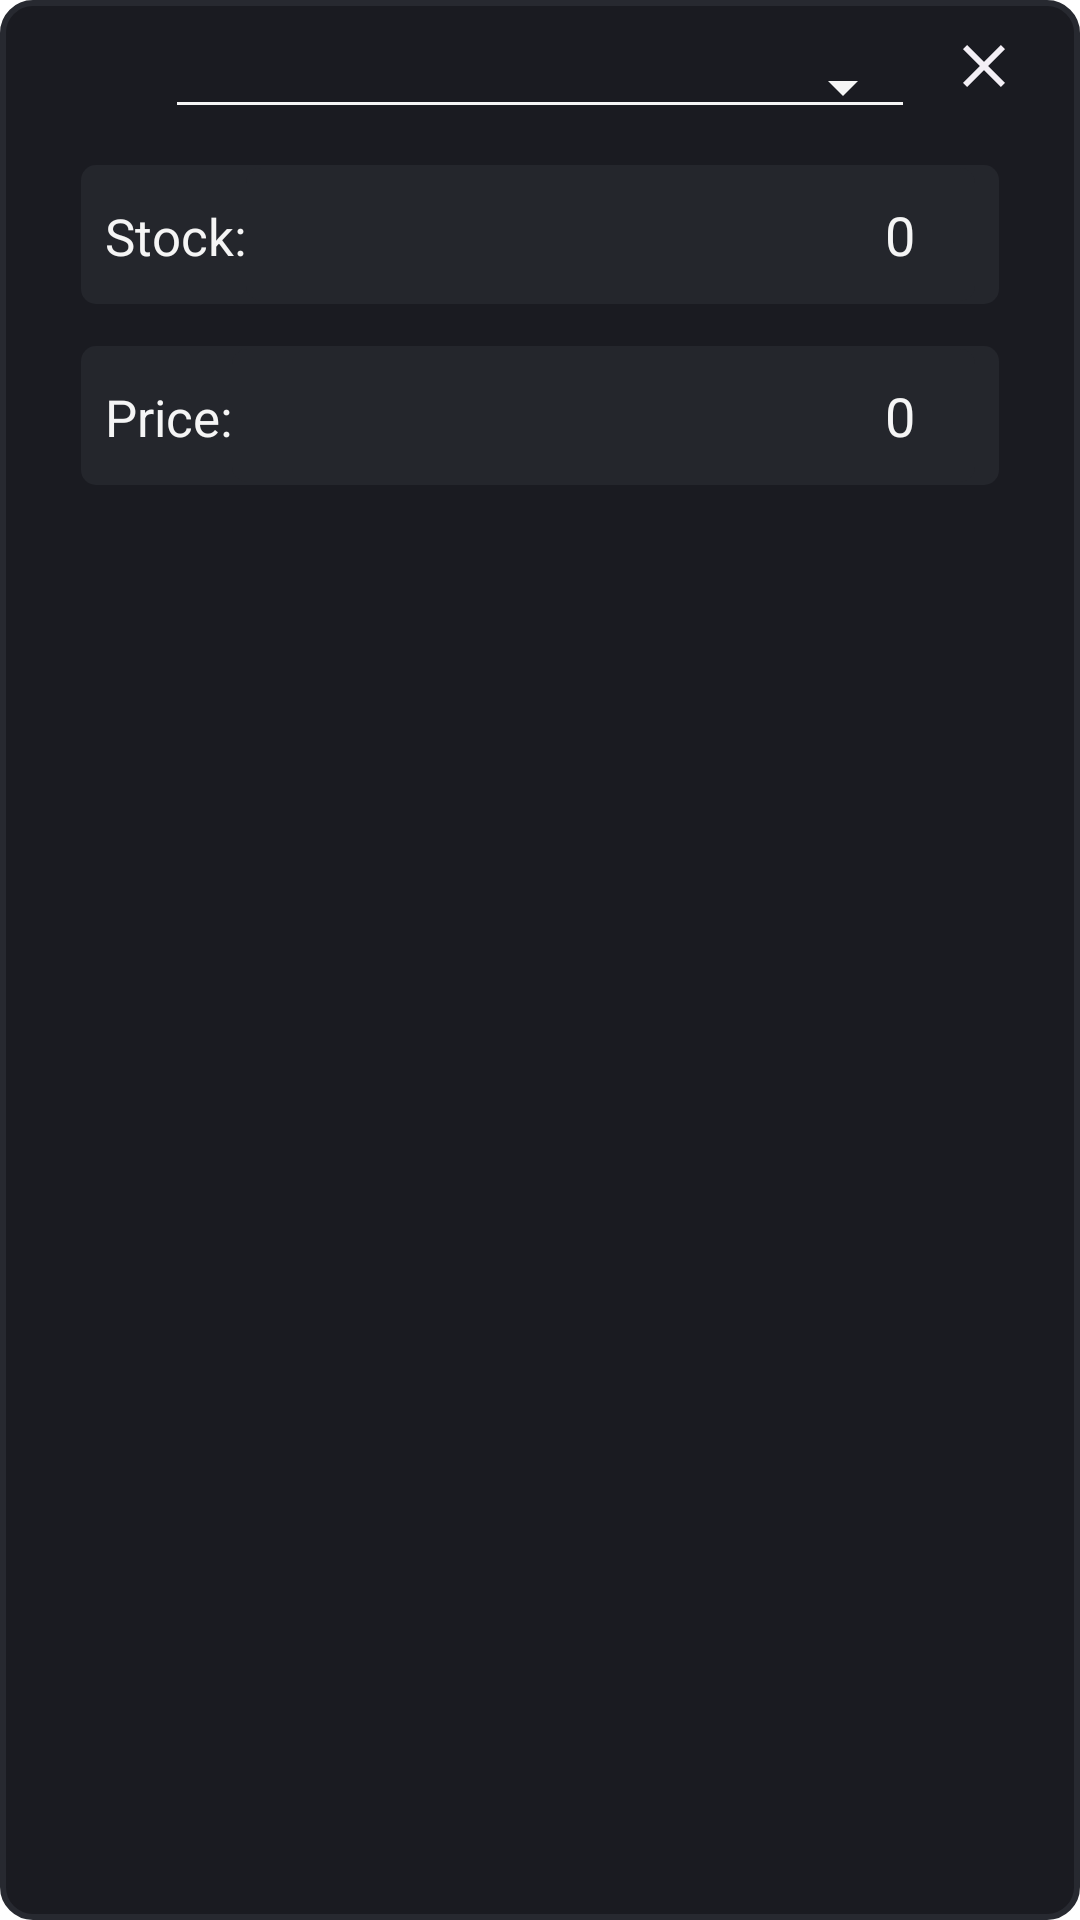

Where icons sit on this 1080px×1920px app screen, as (x1, y1, x2, y2):
close: (963, 45, 1005, 87)
